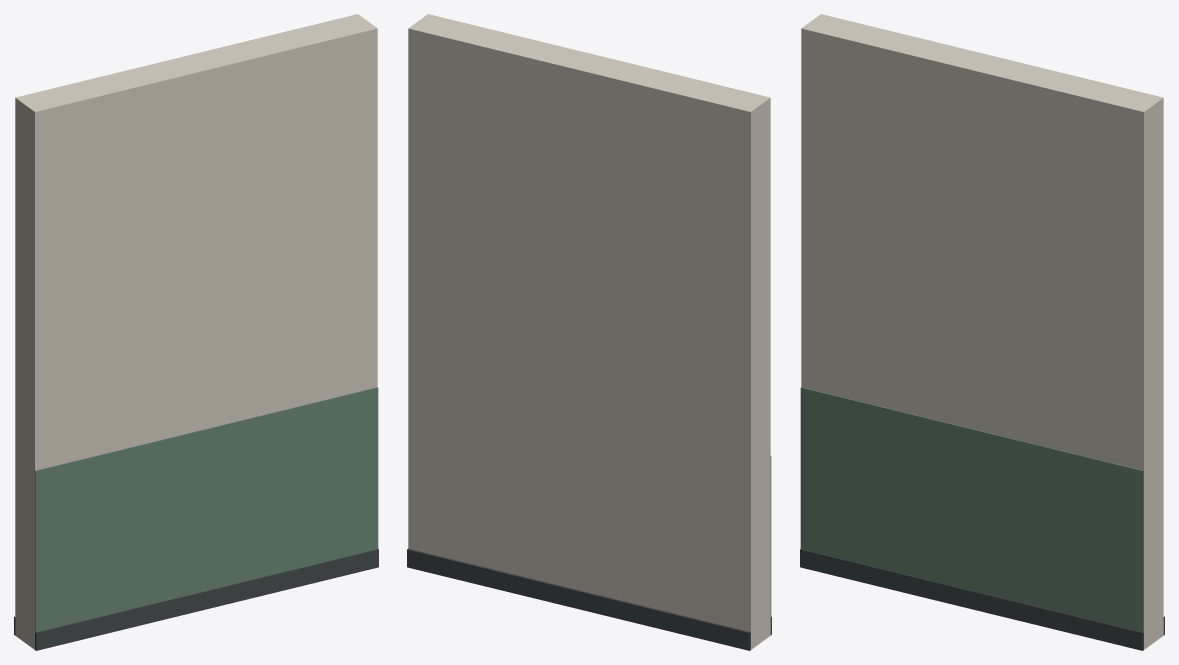
File: MOD_Wall_2m_CorridorProtected.glb
3 views of the same model, side by side, from view 1: azimuth 30°, elevation 25°; view 2: azimuth 150°, elevation 25°; view 3: azimuth 330°, elevation 25° (orthographic).
Parts seen in each view (by area): view 1: MOD_Wall_2m_CorridorProtected_Mesh; view 2: MOD_Wall_2m_CorridorProtected_Mesh; view 3: MOD_Wall_2m_CorridorProtected_Mesh.
Part boxes in pixels (box(x1,y1,x2,y2)): MOD_Wall_2m_CorridorProtected_Mesh: box(14, 14, 378, 650); MOD_Wall_2m_CorridorProtected_Mesh: box(407, 14, 771, 650); MOD_Wall_2m_CorridorProtected_Mesh: box(800, 14, 1164, 650).
Size of what is drawn, in the model's own units: 2 by 3 by 0.224.
